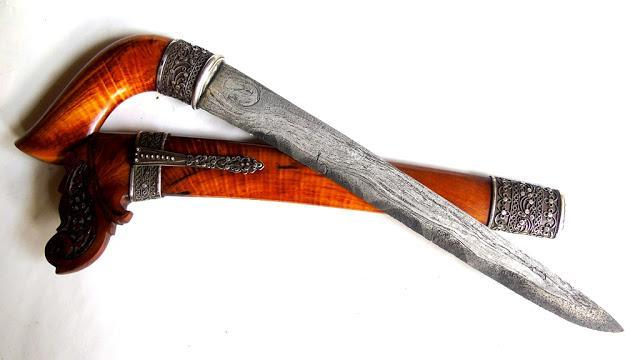facao: (15, 34, 620, 330)
